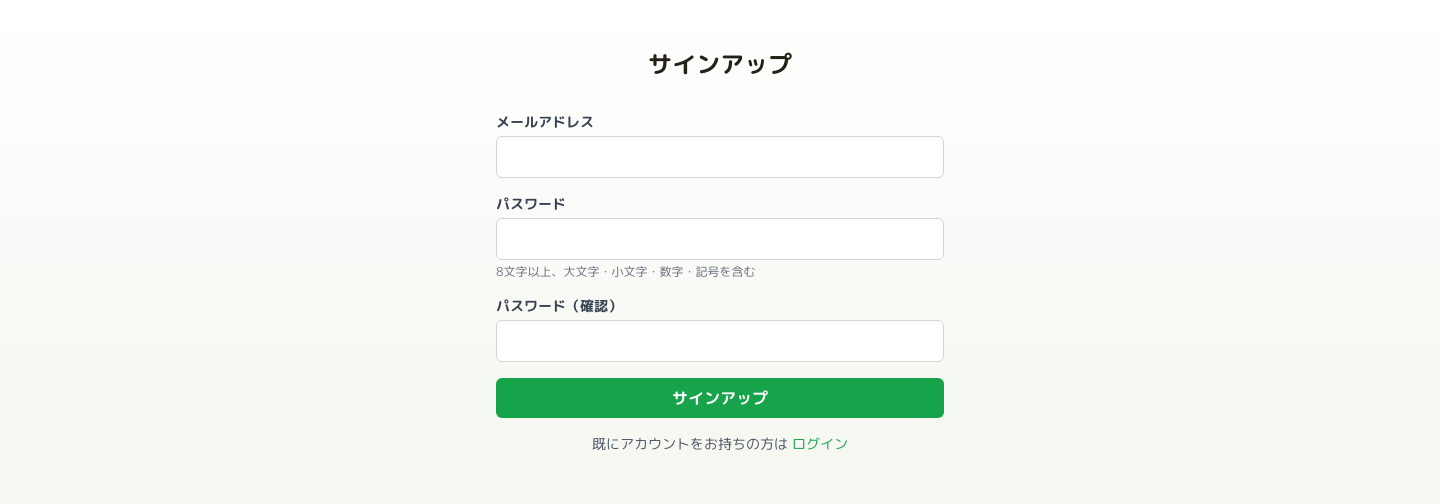
Test: SignupPage › shows password validation error for short password
Type "short" into the password field labelled "パスワード". click: point(720, 239)
box: [496,218,944,260]
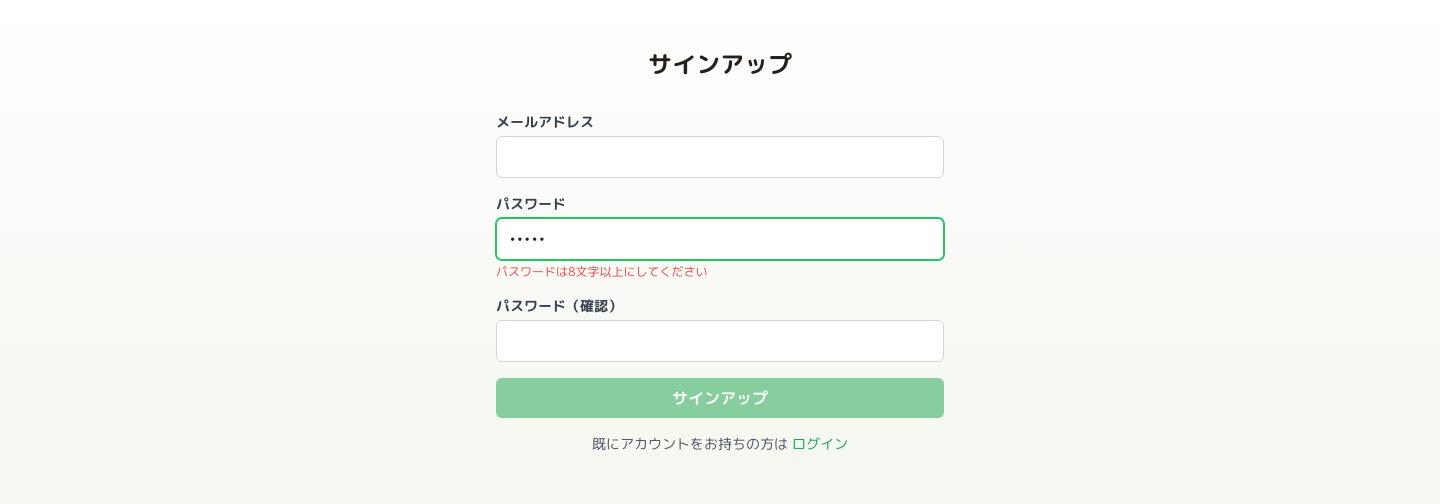
Check: the text "パスワードは8文字以上にしてください" is shown, box [496,263,708,280]
